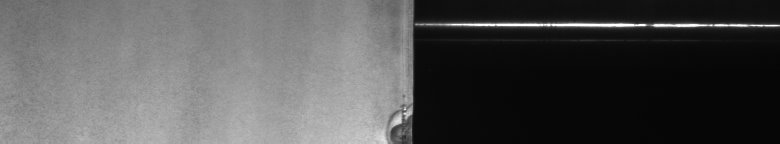hb: (378, 9, 400, 136)
